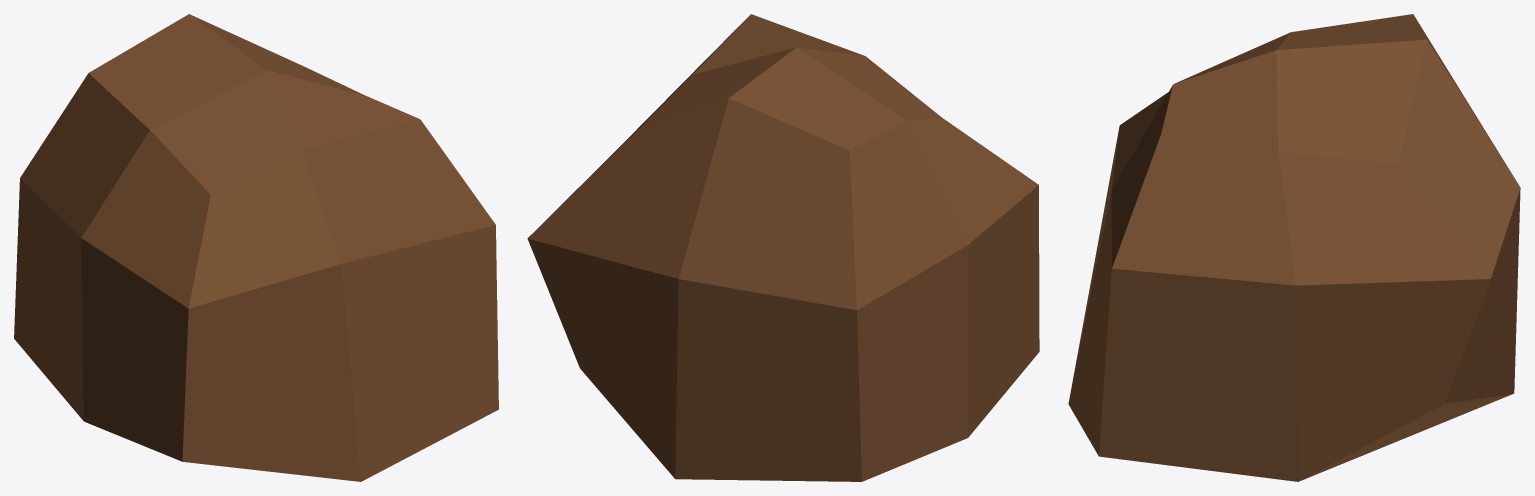
File: Pedrinha Prop 1.fbx
3 views of the same model, side by side, from view 1: azimuth 30°, elevation 25°; view 2: azimuth 150°, elevation 25°; view 3: azimuth 270°, elevation 25° (orthographic). The views are drawn at different scales.
Parts seen in each view (by area): view 1: Cube.001; view 2: Cube.001; view 3: Cube.001.
Boxes of the visible parts, bbox=[...] form: Cube.001: bbox=[14, 14, 498, 481]; Cube.001: bbox=[527, 14, 1039, 481]; Cube.001: bbox=[1068, 14, 1520, 481].
Size of the model in its own units: 237 by 234 by 255.
